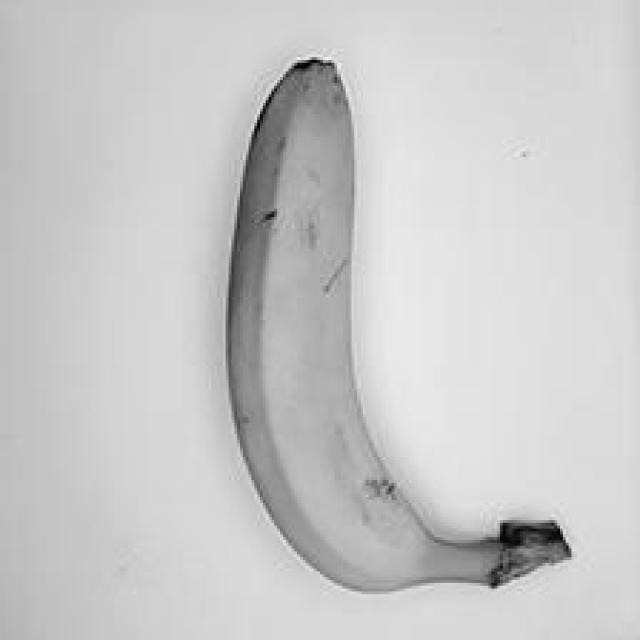Unripe: (186, 37, 581, 593)
